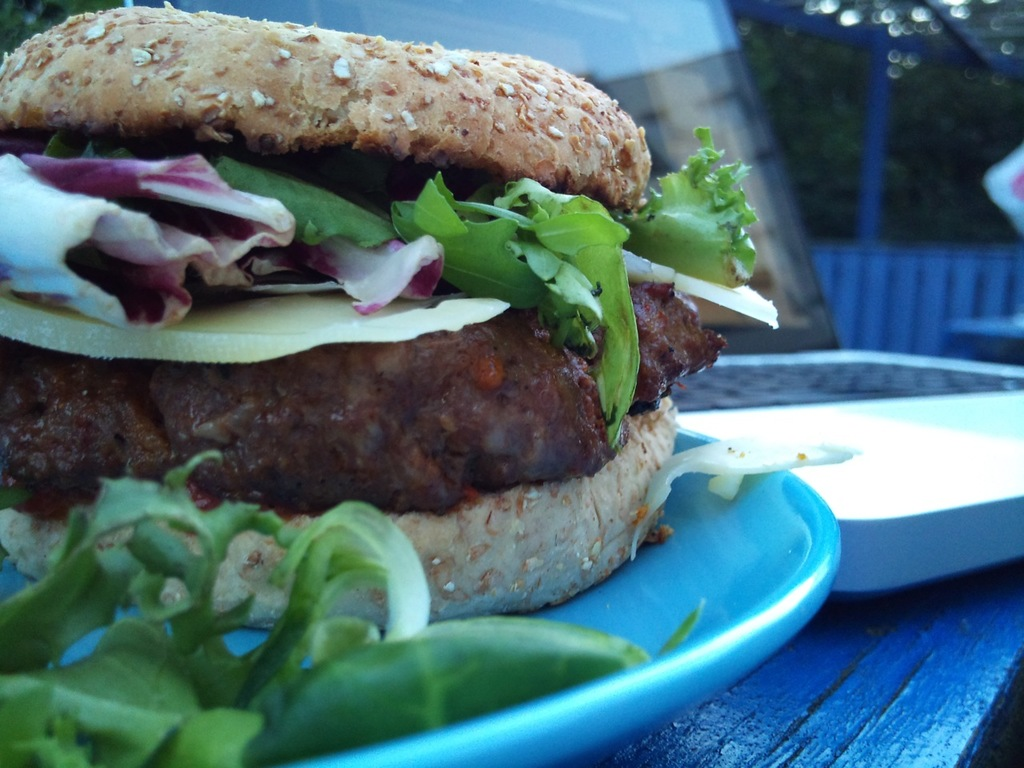Hamburger: (0, 8, 860, 628)
